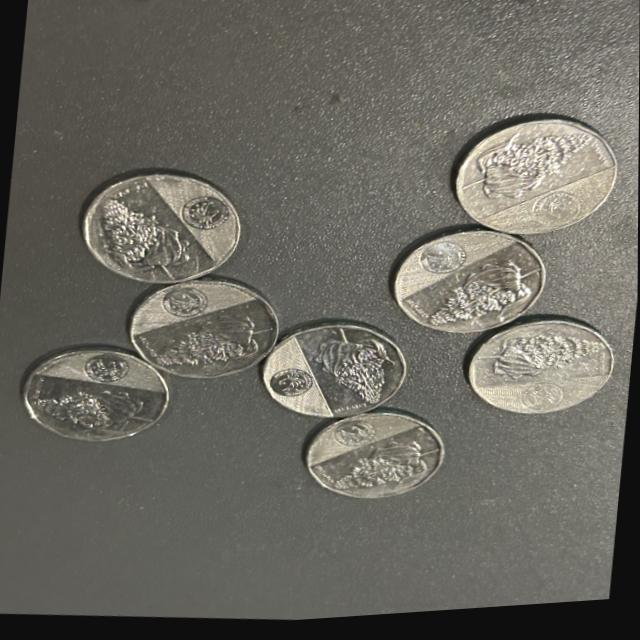10_New_Back: (95, 167, 231, 282), (474, 123, 607, 237), (255, 332, 392, 427), (146, 278, 268, 384), (406, 243, 537, 340), (32, 347, 162, 438), (318, 406, 432, 507)
